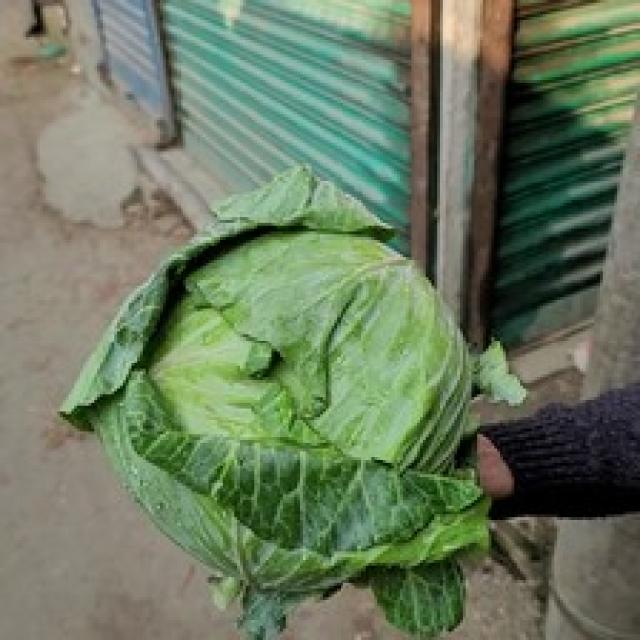Cabbage: (54, 160, 526, 637)
